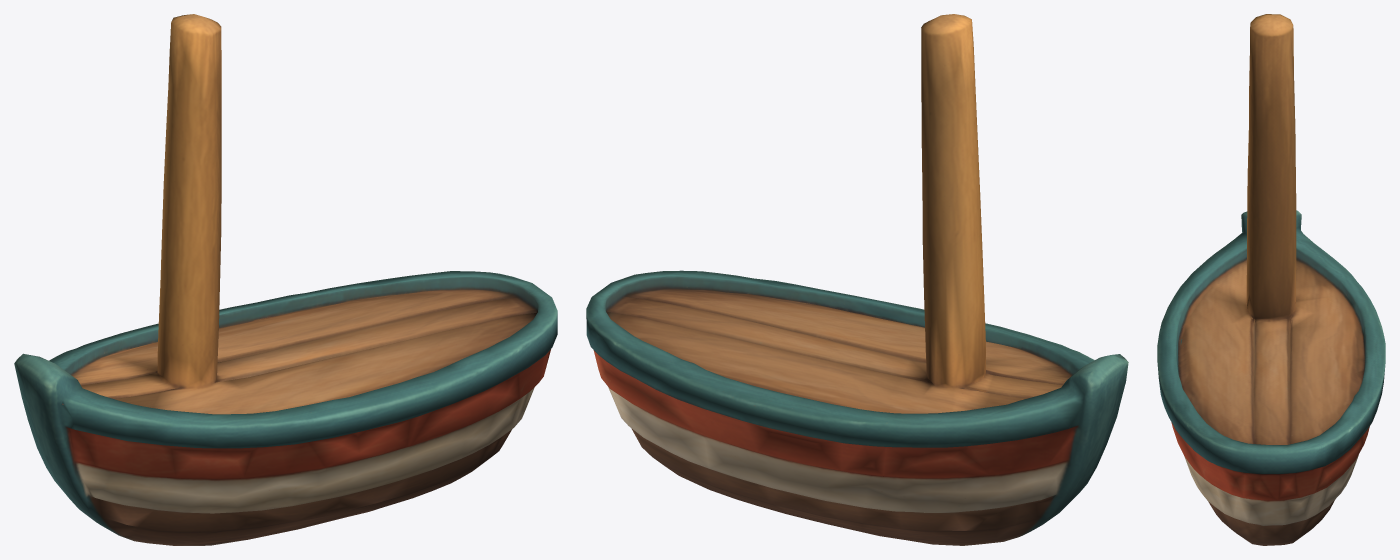
The model's file is boat.glb.
3 views of the same model, side by side, from view 1: azimuth 30°, elevation 25°; view 2: azimuth 150°, elevation 25°; view 3: azimuth 270°, elevation 25° (orthographic). The views are drawn at different scales.
Parts seen in each view (by area): view 1: geometry_0.001; view 2: geometry_0.001; view 3: geometry_0.001.
Part boxes in pixels (x1=…): geometry_0.001: x1=14, y1=14, x2=557, y2=545; geometry_0.001: x1=586, y1=14, x2=1128, y2=545; geometry_0.001: x1=1157, y1=14, x2=1385, y2=545.
Bounding box in the file's own units: 1.99 × 1.94 × 0.9281.
Materials: 1 (1 with a texture image).
